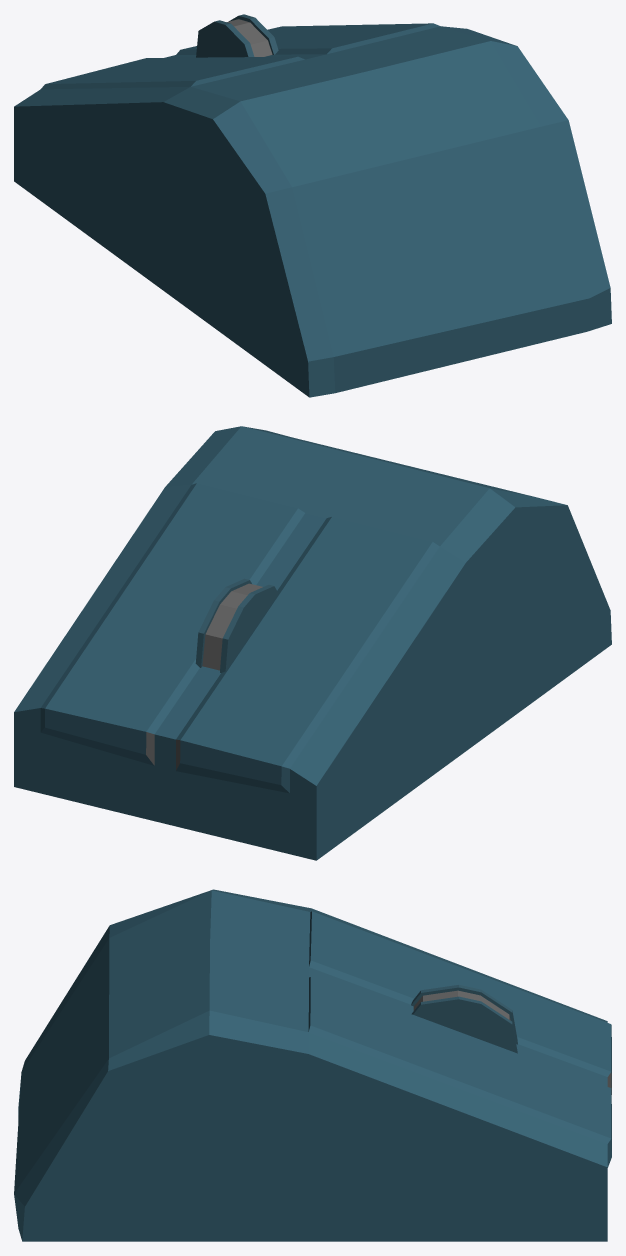
File: MouseV1Blue.fbx
The picture shows the model from 3 angles, top to bottom: view 1: azimuth 30°, elevation 25°; view 2: azimuth 150°, elevation 25°; view 3: azimuth 270°, elevation 25°; orthographic projection.
Parts seen in each view (by area): view 1: MouseV1Blue; view 2: MouseV1Blue; view 3: MouseV1Blue.
Part boxes in pixels (x1,y1,x2,y2): MouseV1Blue: (14,14,611,397); MouseV1Blue: (14,426,611,860); MouseV1Blue: (14,889,611,1241).
Size of the model in its own units: 3.64 by 2.53 by 6.29.
